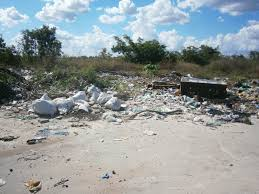rubble: (157, 73, 259, 122), (29, 85, 124, 117)
